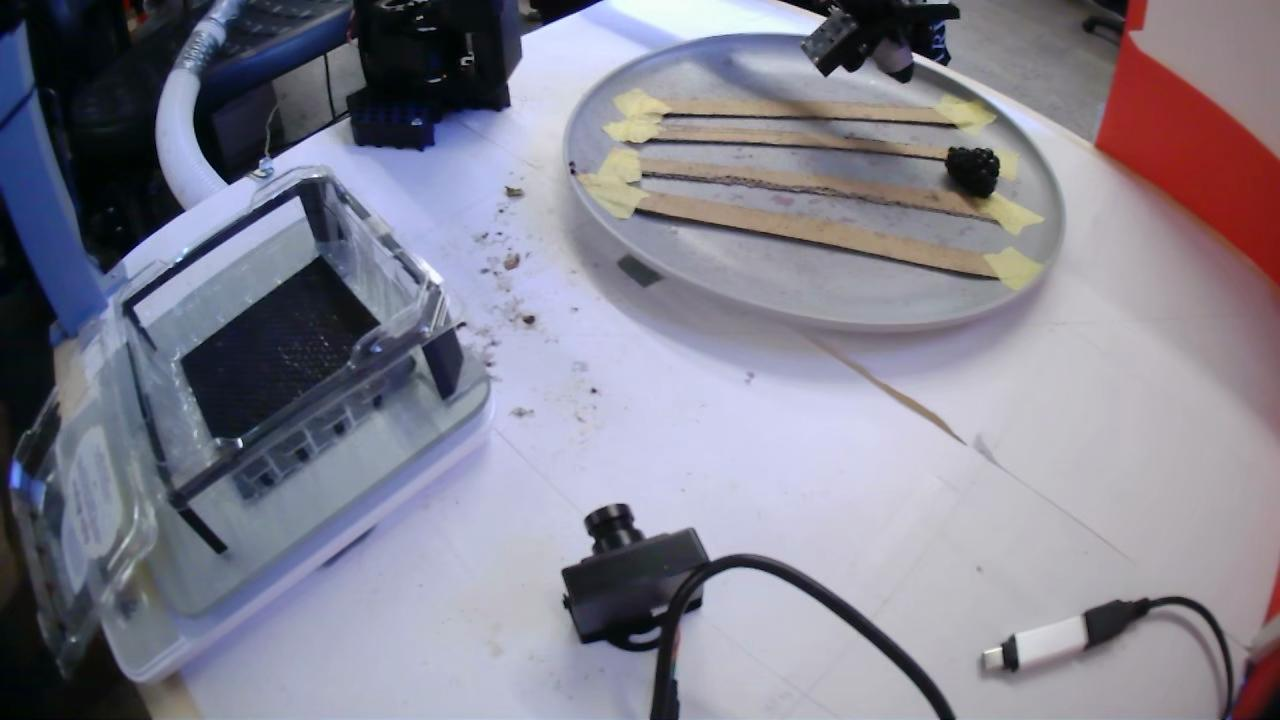berry: (945, 146, 999, 197)
